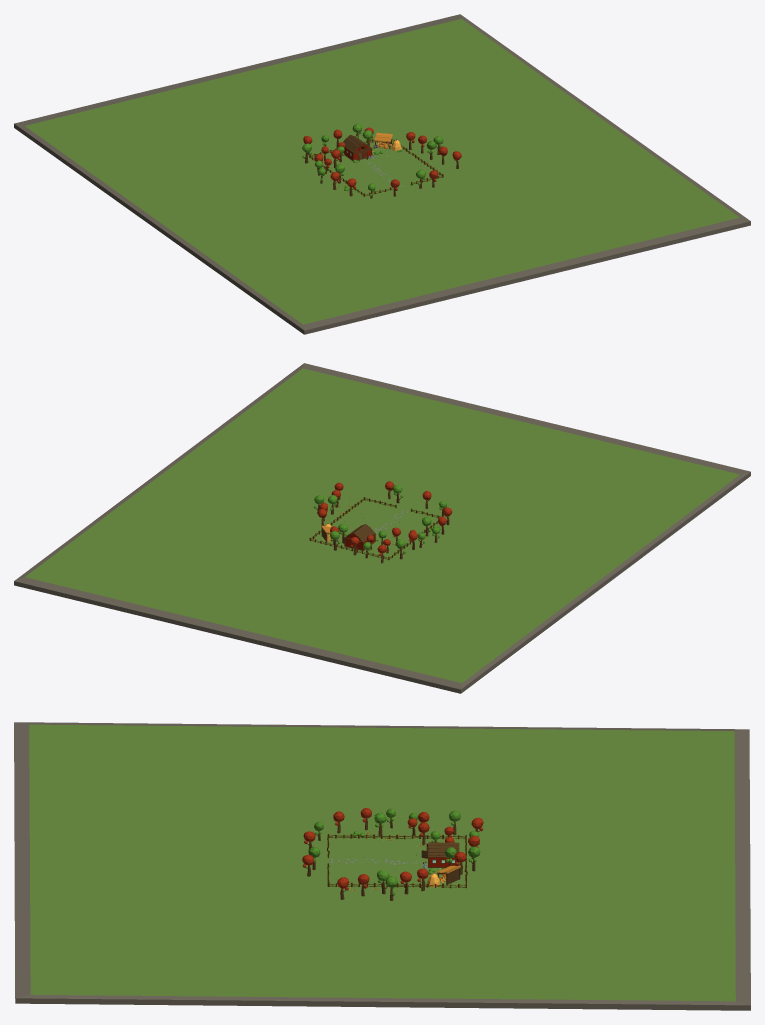
The model's file is farm.glb.
3 renders of one model, top to bottom at view 1: azimuth 30°, elevation 25°; view 2: azimuth 150°, elevation 25°; view 3: azimuth 270°, elevation 25°, orthographic. The views are drawn at different scales.
Visible parts, largest first — view 1: terrain, ambar; view 2: terrain; view 3: terrain, ambar.
Part boxes in pixels (x1=…): terrain: x1=14, y1=14, x2=750, y2=334; ambar: x1=342, y1=135, x2=372, y2=161; terrain: x1=14, y1=363, x2=750, y2=693; terrain: x1=14, y1=722, x2=750, y2=1010; ambar: x1=421, y1=842, x2=459, y2=868.
Size of the model in its own units: 187 by 10.44 by 211.
